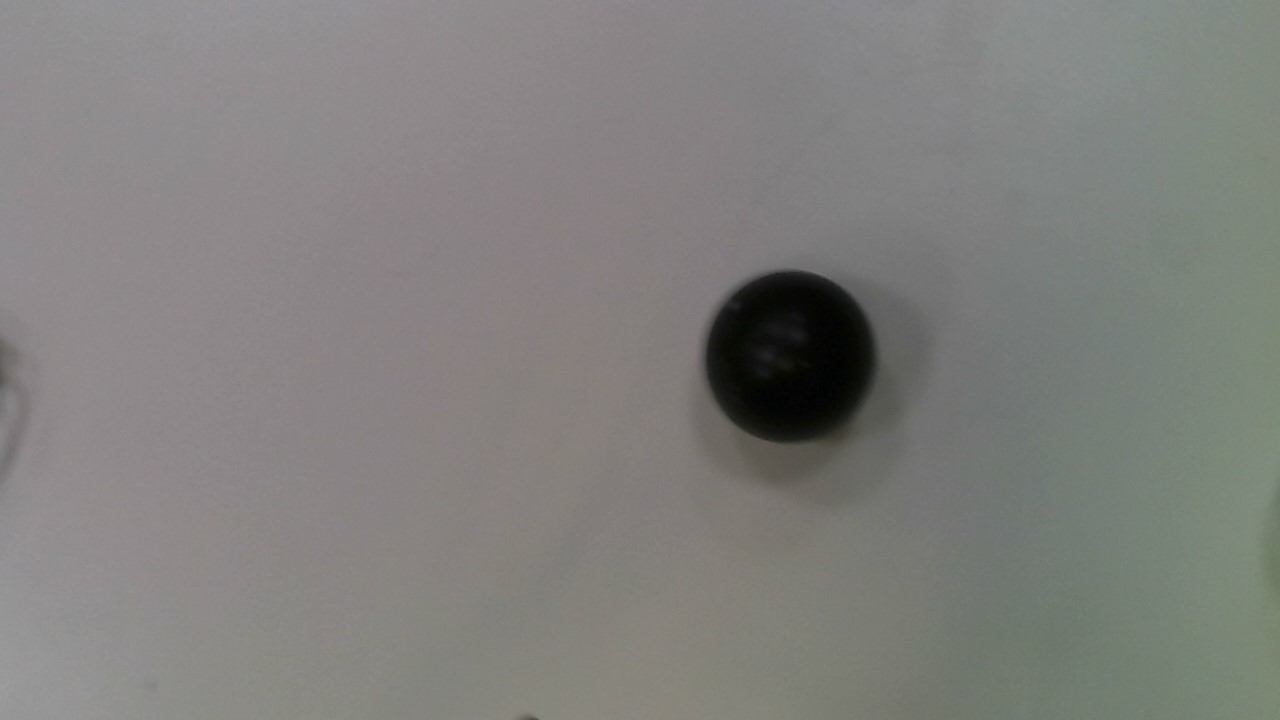black_ball: (698, 269, 881, 448)
